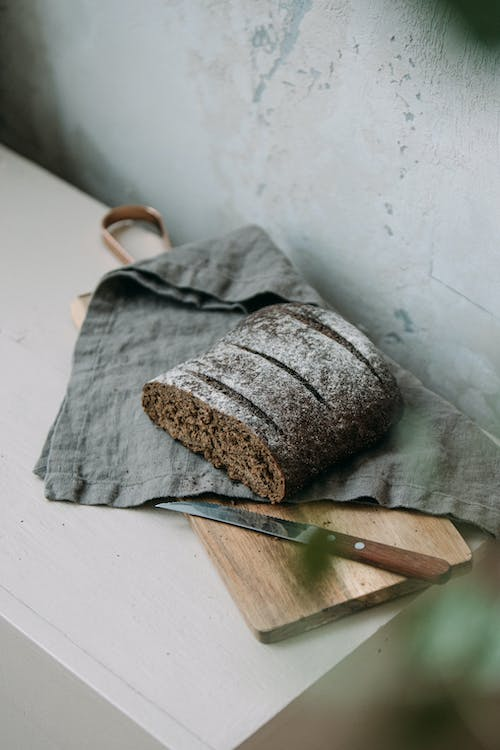knife: (152, 498, 455, 583)
